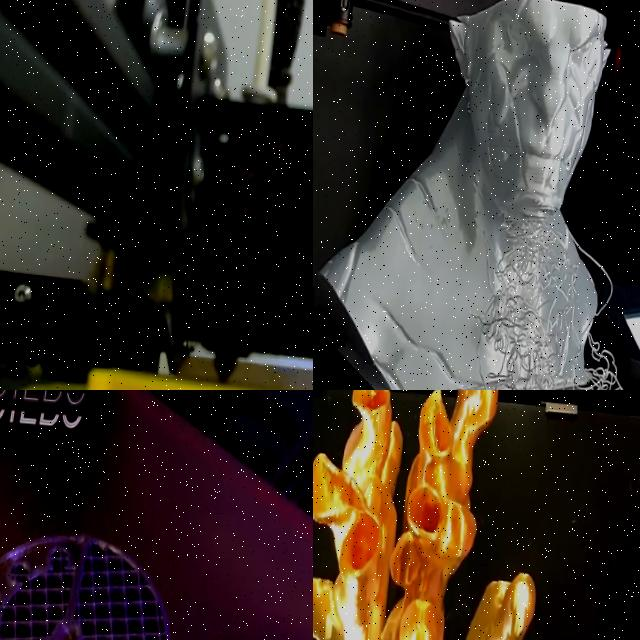spaghetti: (414, 200, 640, 390)
